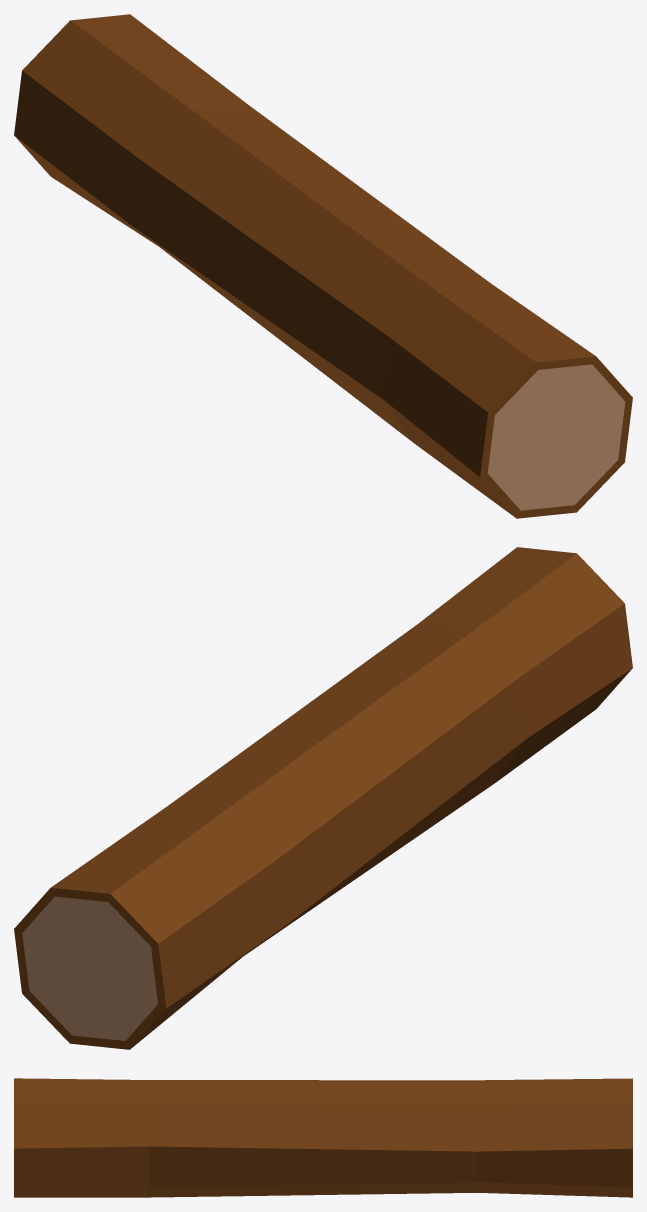
The model's file is Log3.fbx.
3 renders of one model, top to bottom at view 1: azimuth 30°, elevation 25°; view 2: azimuth 150°, elevation 25°; view 3: azimuth 270°, elevation 25°, orthographic. The views are drawn at different scales.
Parts seen in each view (by area): view 1: Log3; view 2: Log3; view 3: Log3.
Boxes of the visible parts, x1,y1,x2,y2 form: Log3: (14,14,632,518); Log3: (14,547,632,1049); Log3: (14,1078,632,1197).
Size of the model in its own units: 67.64 by 67.27 by 356.
Materials: 1 (1 with a texture image).
